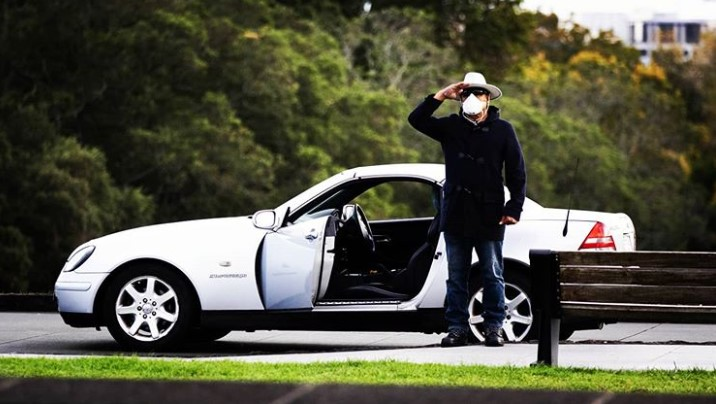face_with_mask: (455, 78, 492, 118)
